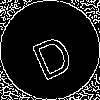D: (25, 25, 77, 82)
